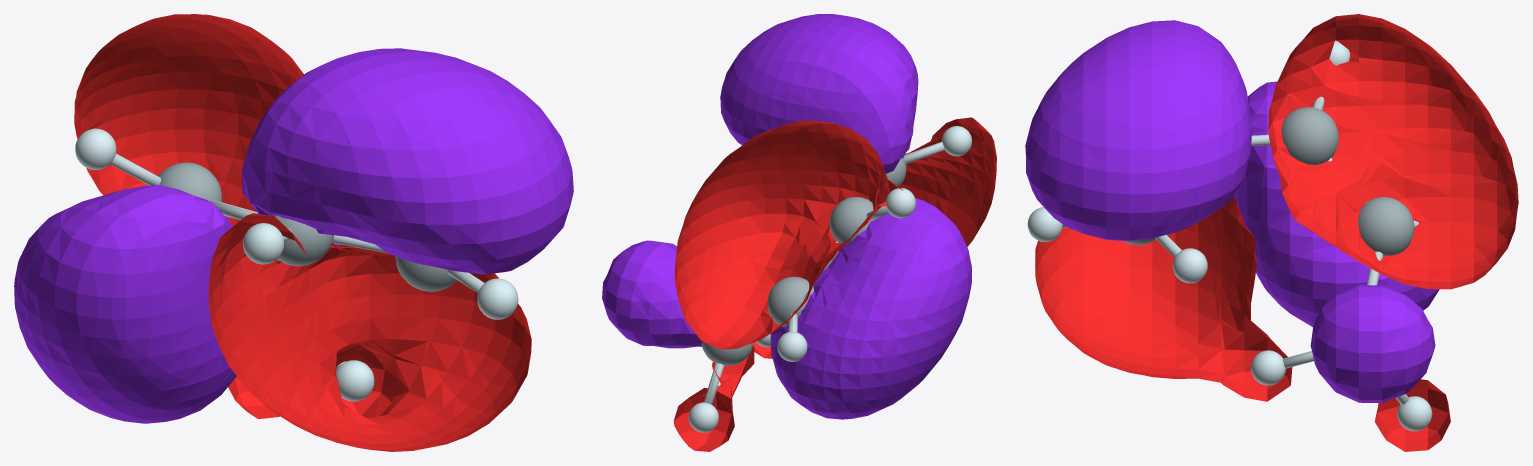
3 views of the same model, side by side, from view 1: azimuth 30°, elevation 25°; view 2: azimuth 150°, elevation 25°; view 3: azimuth 270°, elevation 25° (orthographic). The views are drawn at different scales.
Visible parts, largest first — view 1: Renderer Node; view 2: Renderer Node; view 3: Renderer Node.
Boxes of the visible parts, x1,y1,x2,y2 form: Renderer Node: (14,14,573,451); Renderer Node: (602,14,996,451); Renderer Node: (1025,14,1518,451).
Size of the model in its own units: 4.92 by 5.02 by 5.6.
